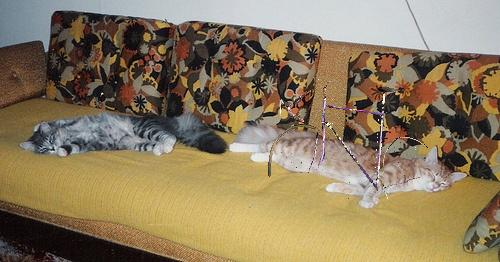tampered: (269, 80, 441, 209)
